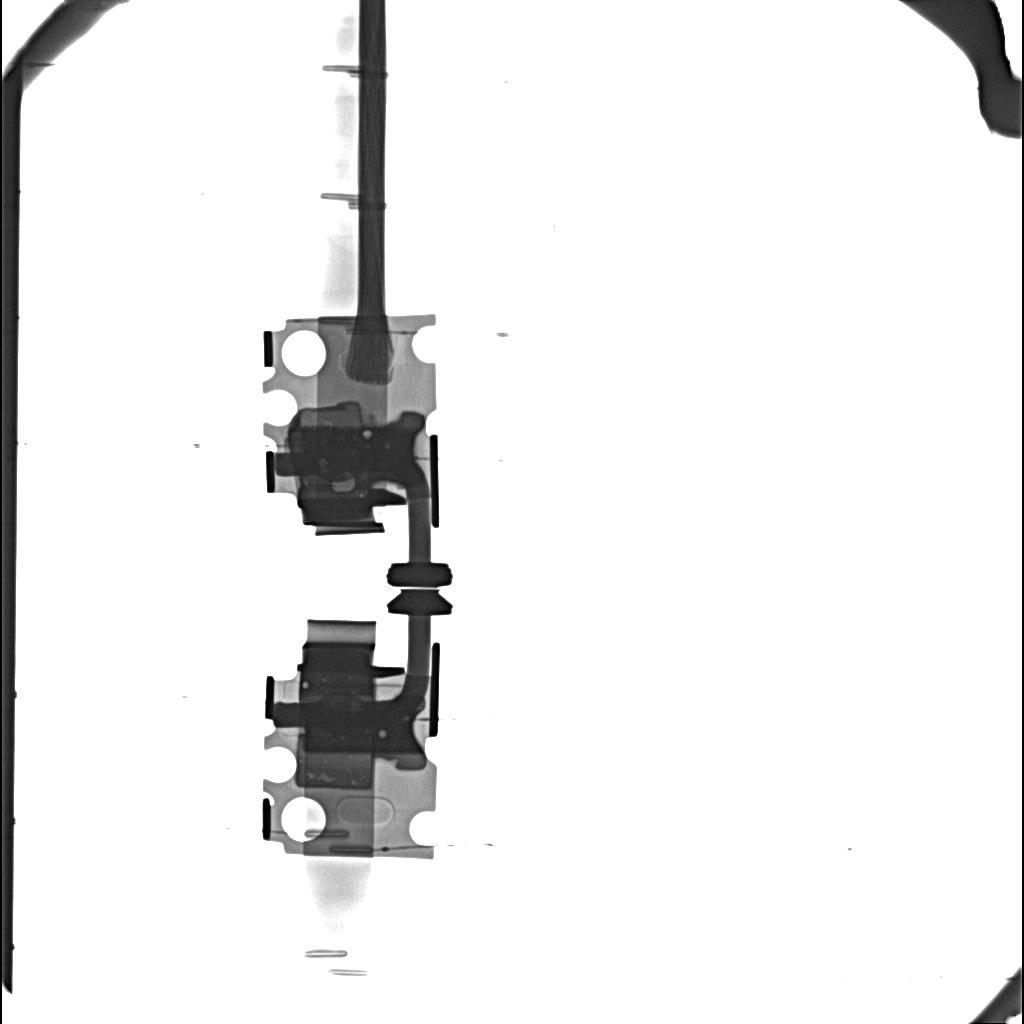PX: (296, 741, 374, 790), (298, 402, 364, 425)
QP: (331, 479, 356, 492), (303, 682, 309, 689)
SX: (293, 426, 415, 475), (306, 707, 421, 752)
